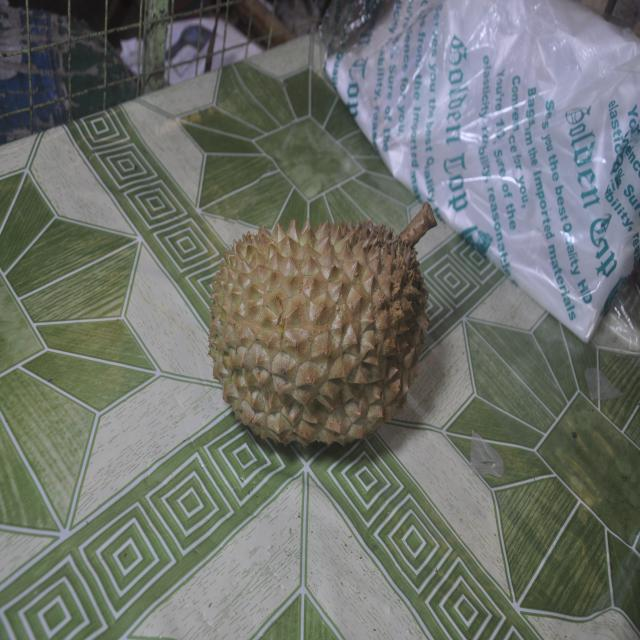mature: (210, 203, 436, 461)
